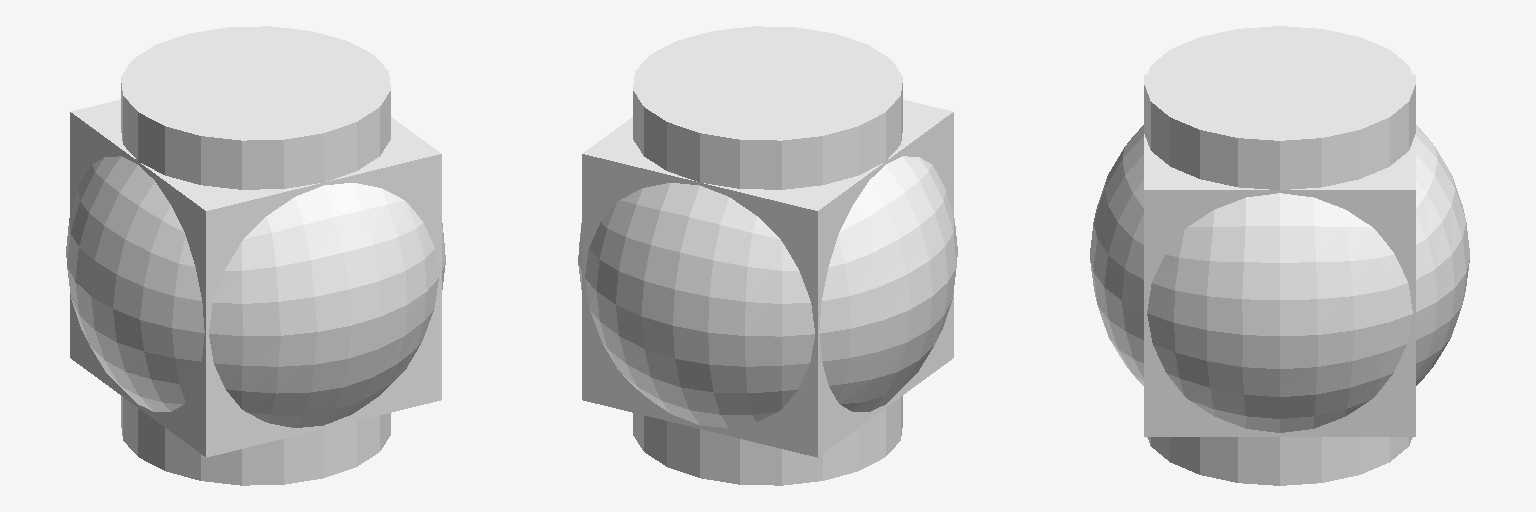
3 renders of one model, left to right at view 1: azimuth 30°, elevation 25°; view 2: azimuth 150°, elevation 25°; view 3: azimuth 270°, elevation 25°, orthographic.
Visible parts, largest first — view 1: Sphere_Scene.001, Cylinder_Scene.002, ShapePrefab_Scene; view 2: Sphere_Scene.001, Cylinder_Scene.002, ShapePrefab_Scene; view 3: Sphere_Scene.001, Cylinder_Scene.002, ShapePrefab_Scene.
Boxes of the visible parts, <box> form: Sphere_Scene.001: <box>66,156,445,427</box>; Cylinder_Scene.002: <box>121,26,390,485</box>; ShapePrefab_Scene: <box>70,99,441,457</box>; Sphere_Scene.001: <box>578,156,957,427</box>; Cylinder_Scene.002: <box>633,26,902,485</box>; ShapePrefab_Scene: <box>582,99,953,457</box>; Sphere_Scene.001: <box>1090,125,1469,432</box>; Cylinder_Scene.002: <box>1144,26,1415,485</box>; ShapePrefab_Scene: <box>1144,75,1415,436</box>.
Bounding box in the file's own units: 0.042 × 0.042 × 0.042.